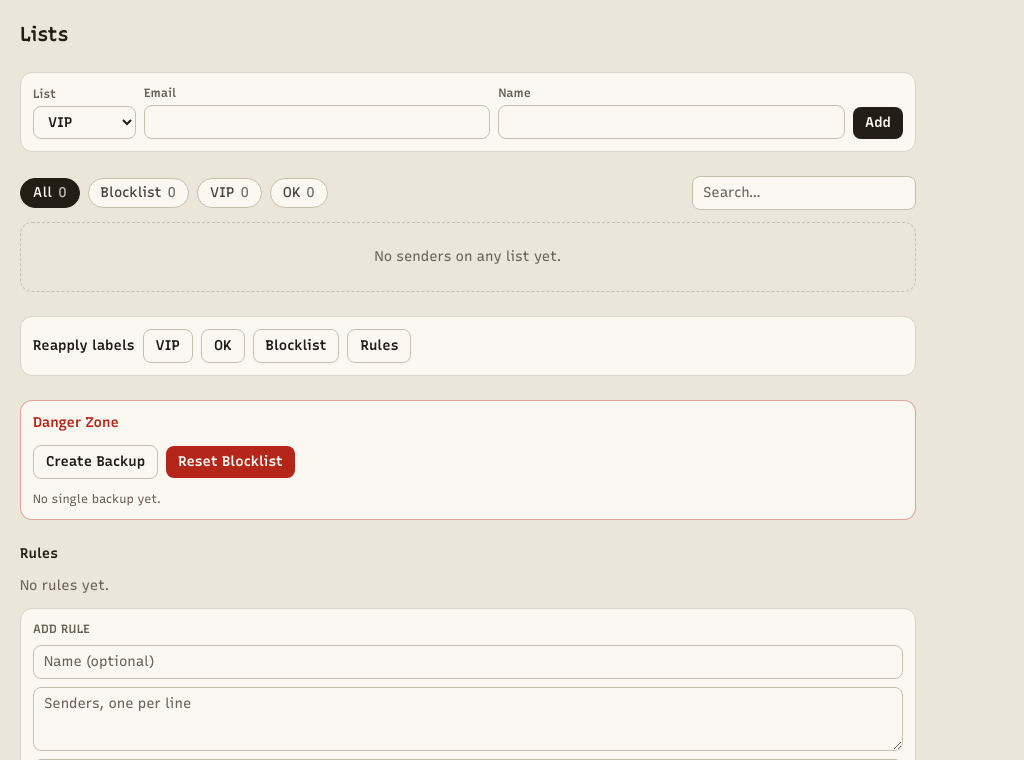
Scenario: ListsPage › reapply guard flow: clicking a reapply button opens the guard dialog
The width and height of the screenshot is (1024, 760).
Click the button "VIP" at [168, 346], box [142,329,193,363]
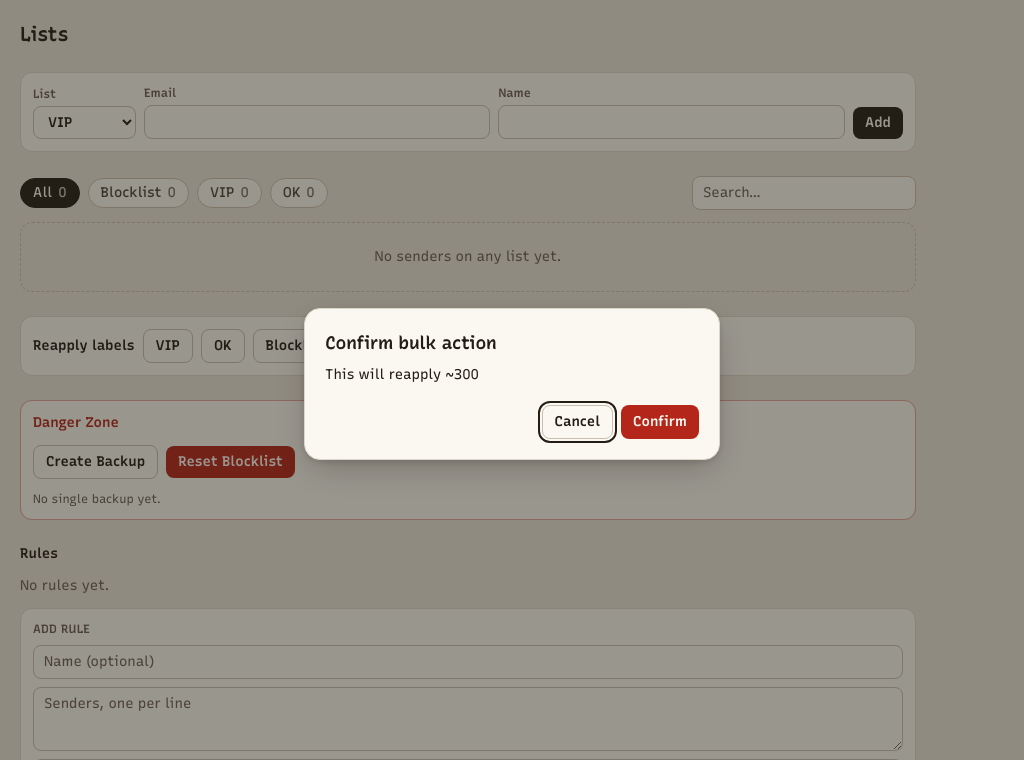
Check: the text "This will reapply ~300" is shown, box [325,366,479,383]
